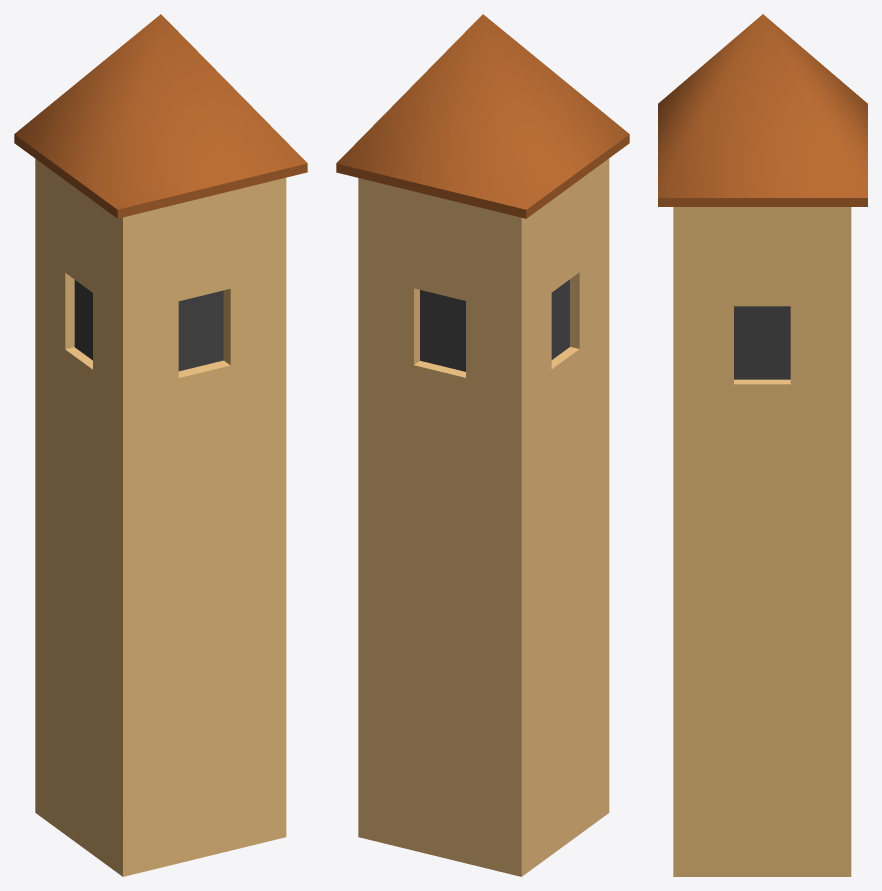
Rendered from Building 03.FBX.
The picture shows the model from 3 angles, left to right: view 1: azimuth 30°, elevation 25°; view 2: azimuth 150°, elevation 25°; view 3: azimuth 270°, elevation 25°; orthographic projection.
Parts seen in each view (by area): view 1: Box001; view 2: Box001; view 3: Box001.
Boxes of the visible parts, left/top/right/bottom form: Box001: left=14, top=14, right=307, bottom=876; Box001: left=336, top=14, right=629, bottom=876; Box001: left=658, top=14, right=867, bottom=876.
Bounding box in the file's own units: 8.87 × 36.12 × 8.35.
